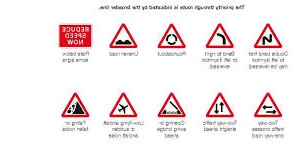Double_bend_right: (254, 22, 283, 50)
